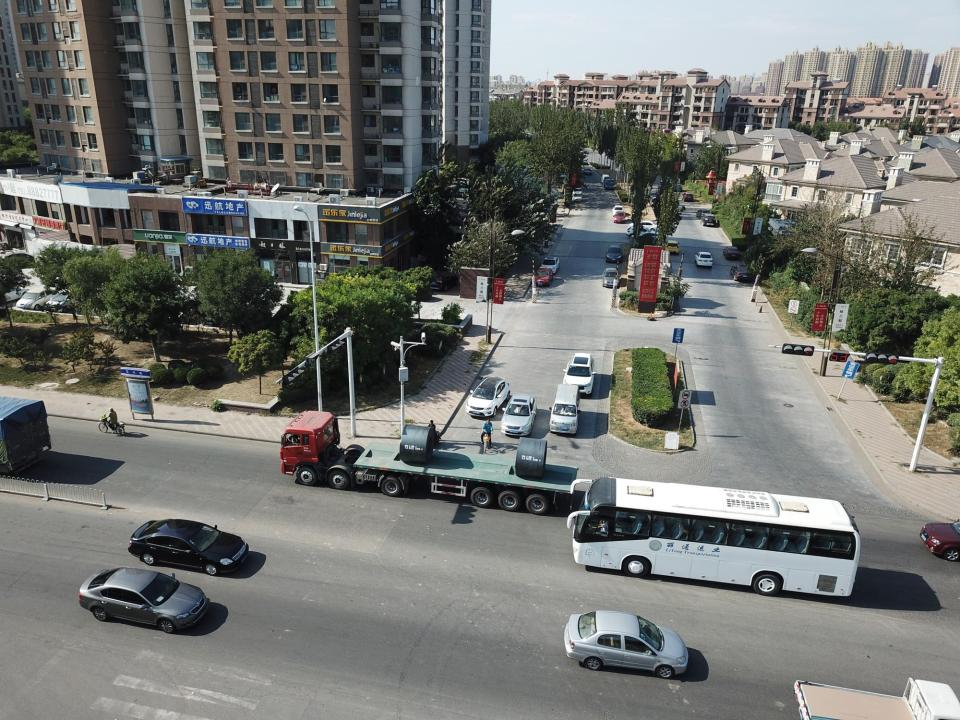bus: (566, 476, 861, 596)
car: (79, 566, 207, 633), (564, 611, 688, 678), (128, 518, 249, 576), (465, 376, 510, 418), (501, 393, 537, 436), (562, 352, 596, 395), (45, 288, 91, 312), (16, 287, 60, 311), (0, 250, 39, 269), (427, 270, 458, 291), (1, 283, 30, 303), (602, 267, 621, 287), (534, 267, 554, 286), (730, 264, 752, 281), (540, 256, 560, 274), (605, 244, 623, 262), (694, 252, 713, 266), (700, 212, 717, 227), (722, 246, 740, 260), (664, 239, 678, 254), (613, 210, 626, 223), (612, 204, 624, 217), (696, 209, 710, 219), (681, 192, 694, 202), (673, 184, 683, 192), (583, 168, 592, 175)
truck: (280, 410, 579, 514), (603, 178, 617, 190)
van: (601, 174, 610, 184)
